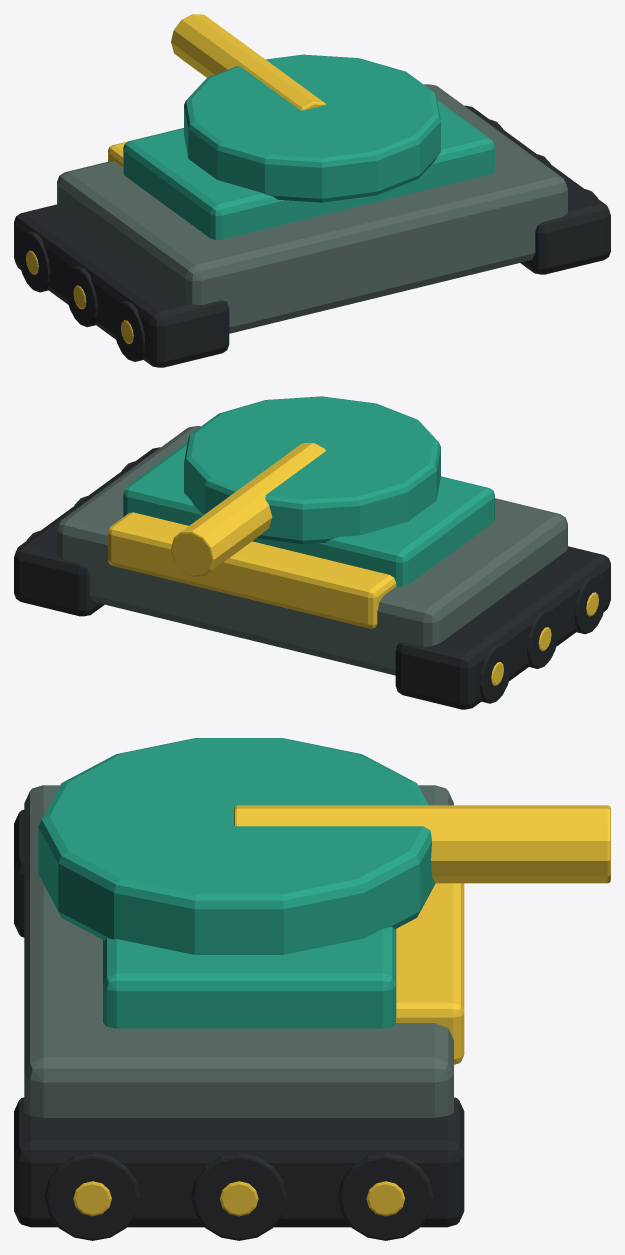
The model's file is SM_Coalition_CO_QinglongMBT.fbx.
3 views of the same model, one above another, from view 1: azimuth 30°, elevation 25°; view 2: azimuth 150°, elevation 25°; view 3: azimuth 270°, elevation 25° (orthographic). The views are drawn at different scales.
Visible parts, largest first — view 1: SM_Coalition_CO_QinglongMBT, SM_Coalition_CO_QinglongMBT_Turret, SM_Coalition_CO_QinglongMBT_UpperHull, SM_Coalition_CO_QinglongMBT_Track_-1, SM_Coalition_CO_QinglongMBT_Track_+1, SM_Coalition_CO_QinglongMBT_Barrel, SM_Coalition_CO_QinglongMBT_Wheel_01, SM_Coalition_CO_QinglongMBT_Wheel_00, SM_Coalition_CO_QinglongMBT_Wheel_00.001; view 2: SM_Coalition_CO_QinglongMBT, SM_Coalition_CO_QinglongMBT_Turret, SM_Coalition_CO_QinglongMBT_Glacis, SM_Coalition_CO_QinglongMBT_Track_-1, SM_Coalition_CO_QinglongMBT_UpperHull, SM_Coalition_CO_QinglongMBT_Barrel, SM_Coalition_CO_QinglongMBT_Track_+1, SM_Coalition_CO_QinglongMBT_Wheel_00, SM_Coalition_CO_QinglongMBT_Wheel_01, SM_Coalition_CO_QinglongMBT_Wheel_00.001; view 3: SM_Coalition_CO_QinglongMBT_Turret, SM_Coalition_CO_QinglongMBT, SM_Coalition_CO_QinglongMBT_Track_+1, SM_Coalition_CO_QinglongMBT_UpperHull, SM_Coalition_CO_QinglongMBT_Barrel, SM_Coalition_CO_QinglongMBT_Glacis, SM_Coalition_CO_QinglongMBT_Wheel_04, SM_Coalition_CO_QinglongMBT_Wheel_04.001, SM_Coalition_CO_QinglongMBT_Wheel_05, SM_Coalition_CO_QinglongMBT_Track_-1, SM_Coalition_CO_QinglongMBT_Hub_04, SM_Coalition_CO_QinglongMBT_Hub_04.001 (+1 smaller).
Boxes of the visible parts, <box> form: SM_Coalition_CO_QinglongMBT: <box>57,84,567,333</box>; SM_Coalition_CO_QinglongMBT_Turret: <box>184,54,440,202</box>; SM_Coalition_CO_QinglongMBT_UpperHull: <box>123,100,494,239</box>; SM_Coalition_CO_QinglongMBT_Track_-1: <box>14,204,229,367</box>; SM_Coalition_CO_QinglongMBT_Track_+1: <box>464,105,610,274</box>; SM_Coalition_CO_QinglongMBT_Barrel: <box>171,14,325,110</box>; SM_Coalition_CO_QinglongMBT_Wheel_01: <box>18,231,50,292</box>; SM_Coalition_CO_QinglongMBT_Wheel_00: <box>113,301,145,361</box>; SM_Coalition_CO_QinglongMBT_Wheel_00.001: <box>65,266,97,327</box>; SM_Coalition_CO_QinglongMBT: <box>57,426,567,675</box>; SM_Coalition_CO_QinglongMBT_Turret: <box>184,396,440,544</box>; SM_Coalition_CO_QinglongMBT_Glacis: <box>108,512,396,628</box>; SM_Coalition_CO_QinglongMBT_Track_-1: <box>395,546,610,709</box>; SM_Coalition_CO_QinglongMBT_UpperHull: <box>123,442,494,586</box>; SM_Coalition_CO_QinglongMBT_Barrel: <box>171,443,325,576</box>; SM_Coalition_CO_QinglongMBT_Track_+1: <box>14,447,160,616</box>; SM_Coalition_CO_QinglongMBT_Wheel_00: <box>574,573,606,634</box>; SM_Coalition_CO_QinglongMBT_Wheel_01: <box>479,643,511,703</box>; SM_Coalition_CO_QinglongMBT_Wheel_00.001: <box>527,608,559,668</box>; SM_Coalition_CO_QinglongMBT_Turret: <box>38,738,435,954</box>; SM_Coalition_CO_QinglongMBT: <box>24,785,453,1117</box>; SM_Coalition_CO_QinglongMBT_Track_+1: <box>14,1097,464,1227</box>; SM_Coalition_CO_QinglongMBT_UpperHull: <box>103,927,396,1028</box>; SM_Coalition_CO_QinglongMBT_Barrel: <box>234,805,610,883</box>; SM_Coalition_CO_QinglongMBT_Glacis: <box>396,883,464,1064</box>; SM_Coalition_CO_QinglongMBT_Wheel_04: <box>44,1152,140,1240</box>; SM_Coalition_CO_QinglongMBT_Wheel_04.001: <box>191,1152,286,1240</box>; SM_Coalition_CO_QinglongMBT_Wheel_05: <box>338,1152,433,1240</box>; SM_Coalition_CO_QinglongMBT_Track_-1: <box>14,809,24,937</box>; SM_Coalition_CO_QinglongMBT_Hub_04: <box>73,1181,111,1216</box>; SM_Coalition_CO_QinglongMBT_Hub_04.001: <box>220,1181,258,1216</box>.
Size of what is drawn, in the model's own units: 525 by 376 by 180.
